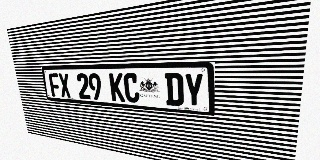2: (76, 73, 91, 99)
9: (88, 73, 103, 100)
C: (123, 73, 140, 103)
D: (165, 73, 184, 106)
F: (48, 73, 61, 97)
K: (109, 73, 125, 102)
X: (58, 73, 71, 98)
Y: (184, 73, 204, 108)
